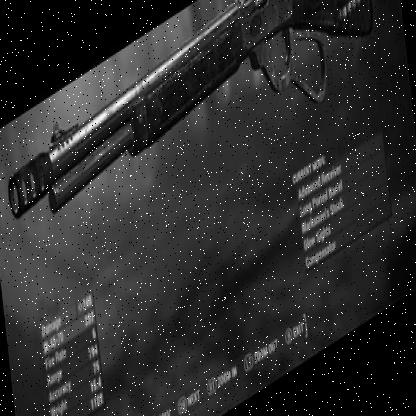rifle: (0, 0, 382, 305)
